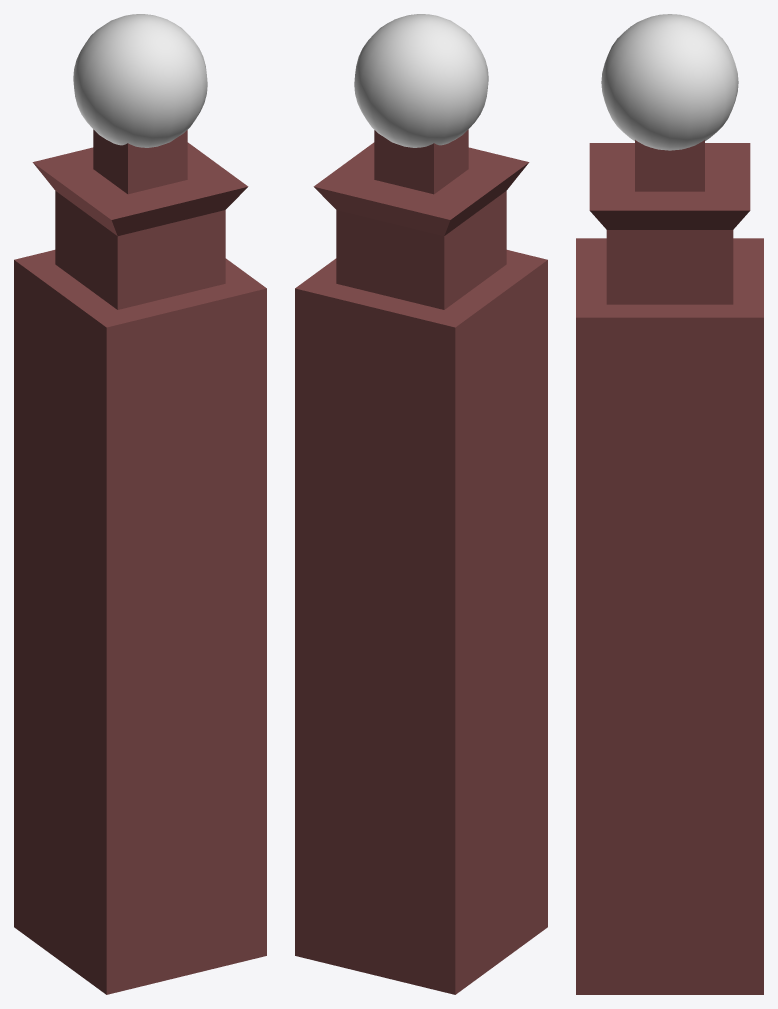
File: wall1.fbx
The picture shows the model from 3 angles, left to right: view 1: azimuth 30°, elevation 25°; view 2: azimuth 150°, elevation 25°; view 3: azimuth 270°, elevation 25°; orthographic projection.
Parts seen in each view (by area): view 1: wall; view 2: wall; view 3: wall.
Boxes of the visible parts, box(x1,y1,x2,y2) form: wall: box(14, 14, 266, 994); wall: box(295, 14, 547, 994); wall: box(576, 14, 763, 994).
Size of the model in its own units: 1 by 5.49 by 1.
